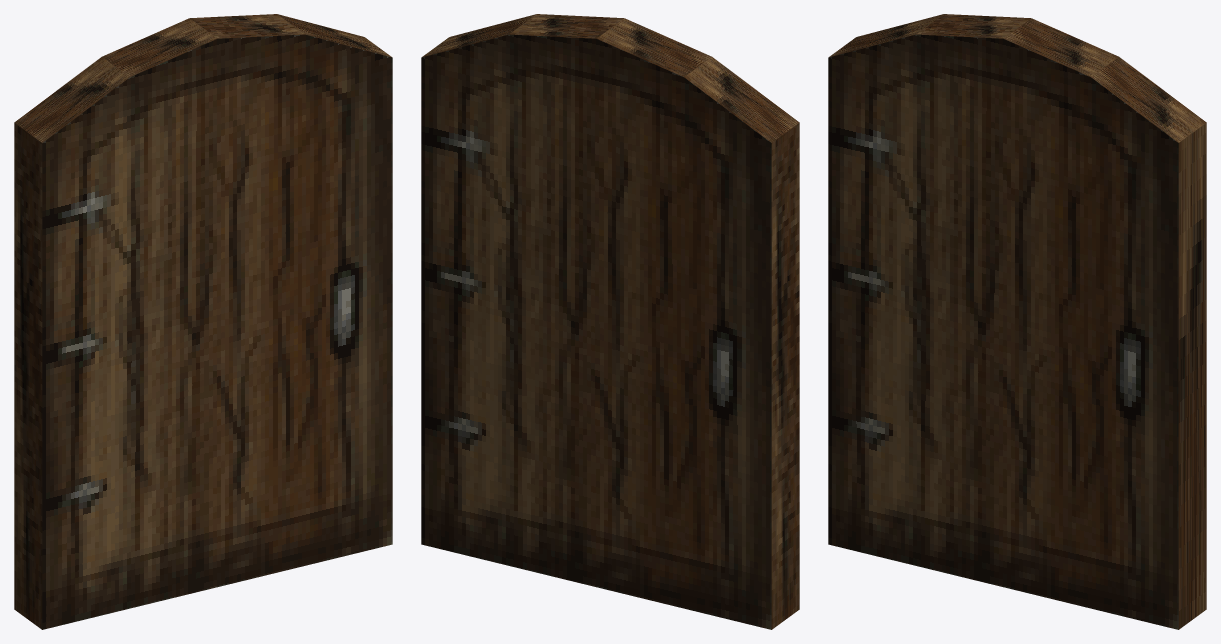
Rendered from tavern_door.glb.
3 views of the same model, side by side, from view 1: azimuth 30°, elevation 25°; view 2: azimuth 150°, elevation 25°; view 3: azimuth 330°, elevation 25° (orthographic).
Parts seen in each view (by area): view 1: tavern_door; view 2: tavern_door; view 3: tavern_door.
Boxes of the visible parts, x1,y1,x2,y2 form: tavern_door: (14,14,392,629); tavern_door: (421,14,799,629); tavern_door: (828,14,1206,629).
Size of the model in its own units: 2.16 by 3.24 by 0.3001.
Materials: 1 (1 with a texture image).
